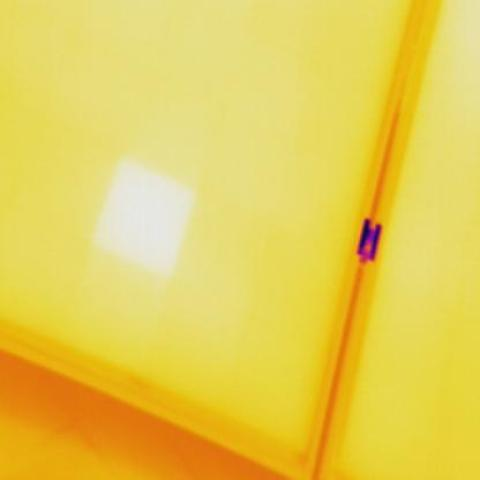fault: (90, 153, 194, 285)
